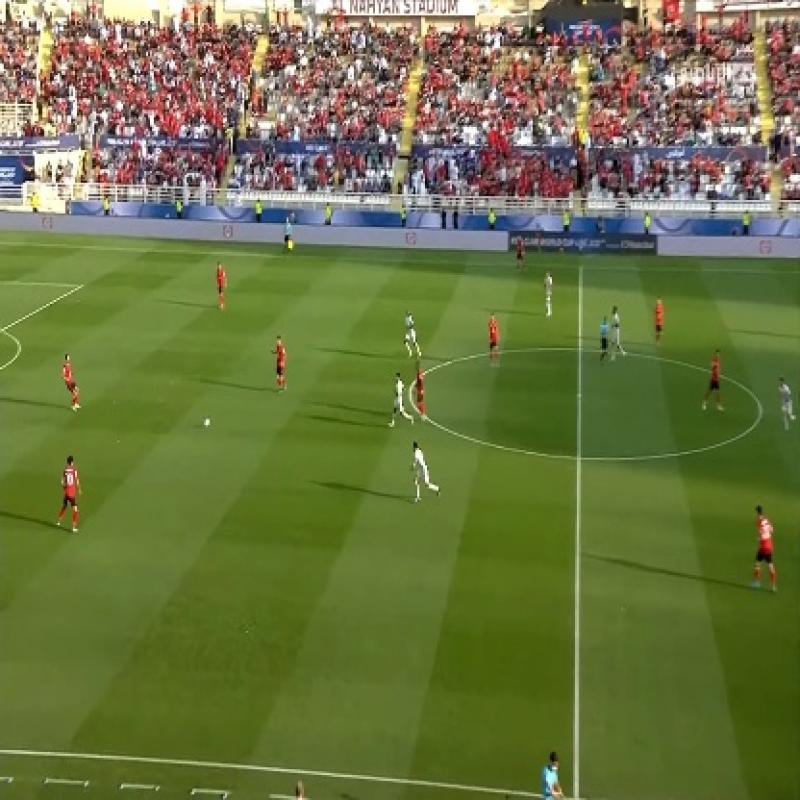10: (0, 318, 10, 338)
13: (572, 254, 590, 275)
14: (569, 334, 590, 360)
15: (568, 440, 590, 472)
9: (71, 275, 87, 294)
c: (401, 376, 423, 402), (751, 398, 772, 423)
